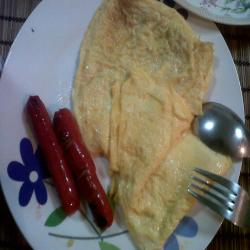omelette: (80, 6, 224, 246)
